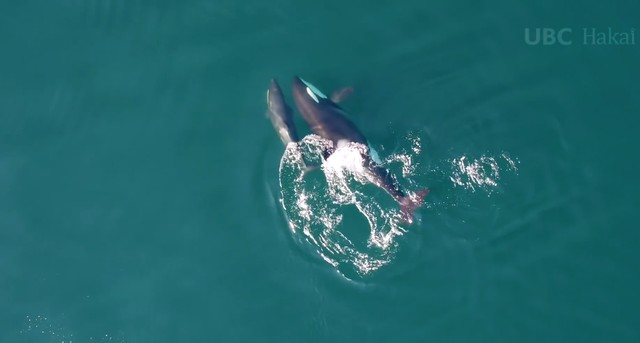whale: (287, 70, 435, 230), (259, 74, 319, 186)
